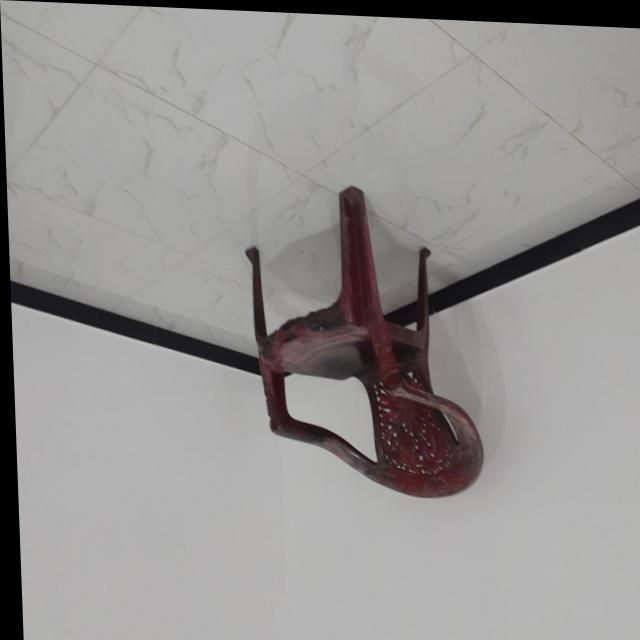Chair: (243, 179, 481, 498)
